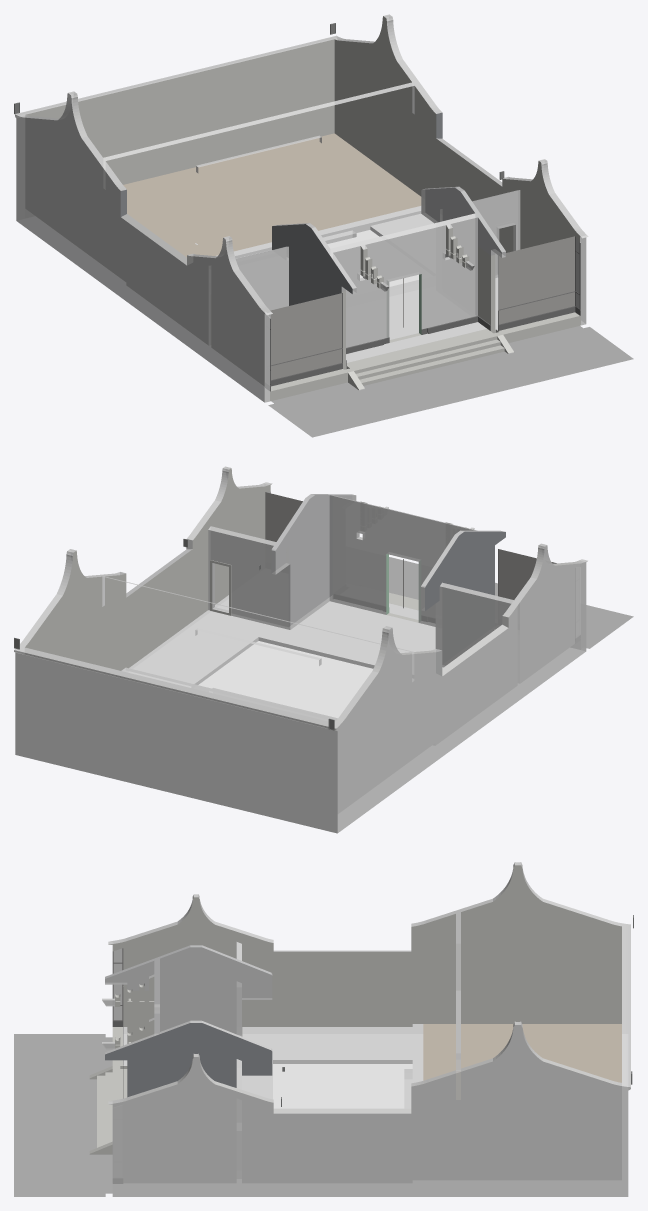
The picture shows the model from 3 angles, top to bottom: view 1: azimuth 30°, elevation 25°; view 2: azimuth 150°, elevation 25°; view 3: azimuth 270°, elevation 25°; orthographic projection. The views are drawn at different scales.
Parts seen in each view (by area): view 1: Node633, Node914, Node660, Node61, Node694, Node909, Node411, Node441, Node910, Node659, Node688, Node605 (+36 smaller); view 2: Node633, Node914, Node663, Node413, Node857, Node910, Node763, Node659, Node688, Node690, Node895, Node605 (+32 smaller); view 3: Node889, Node914, Node910, Node909, Node61, Node526, Node411, Node639, Node857, Node433, Node895, Node605 (+18 smaller).
Boxes of the visible parts, x1,y1,x2,y2 form: Node633: (15,93,265,386); Node914: (26,92,270,385); Node660: (180,133,421,237); Node61: (268,326,633,437); Node694: (180,39,334,151); Node909: (334,16,412,170); Node411: (123,171,271,257); Node441: (26,77,179,169); Node910: (414,86,581,249); Node659: (405,217,477,329); Node688: (403,214,474,309); Node605: (18,217,403,401); Node633: (336,545,587,817); Node914: (335,544,579,794); Node663: (15,652,176,778); Node413: (176,692,337,817); Node857: (129,596,417,687); Node910: (105,468,271,663); Node763: (129,601,401,682); Node659: (333,496,404,605); Node688: (329,495,402,592); Node690: (198,641,347,705); Node895: (272,494,351,625); Node605: (338,618,584,831); Node889: (109,1025,630,1180); Node914: (109,865,621,1026); Node910: (113,1054,455,1182); Node909: (461,1022,621,1159); Node61: (14,1034,112,1196); Node526: (242,1004,621,1026); Node411: (423,1024,621,1099); Node639: (105,946,271,1033); Node857: (113,1116,627,1196); Node433: (160,947,272,1036); Node895: (105,1023,272,1097); Node605: (124,1034,627,1114).
Bounding box in the file's own units: 602 × 297 × 969.
